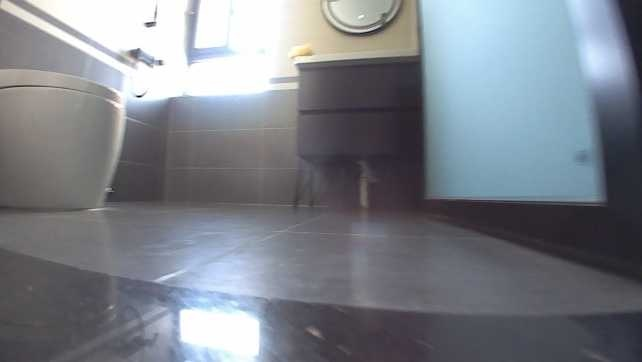toilet: (1, 65, 125, 209)
washstand: (287, 42, 416, 210)
